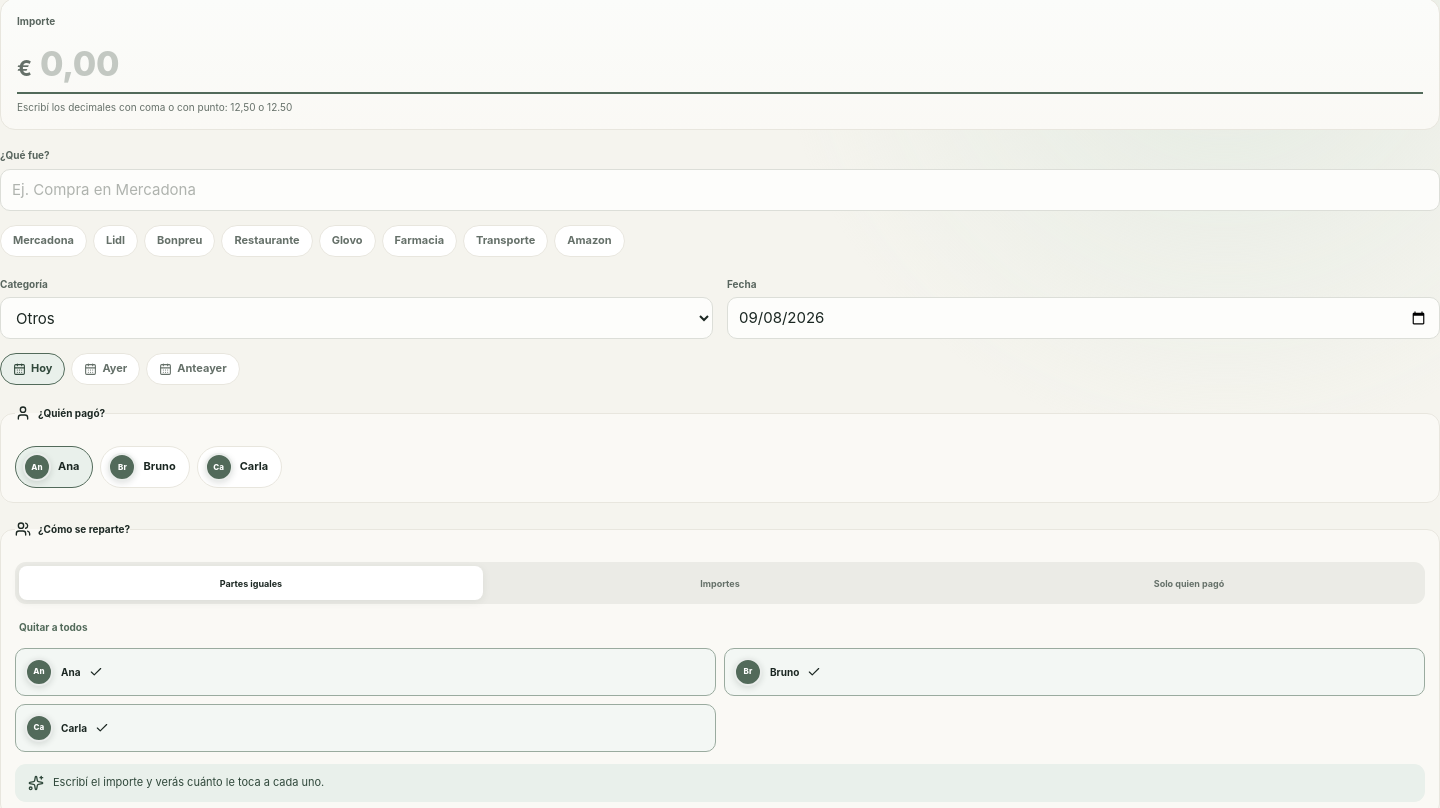
it: ExpenseForm › rechaza un importe vacío con un mensaje que explica los decimales
The image size is (1440, 808).
Type "Algo" into the field labelled "¿Qué fue?". click: coordinates (720, 190)
box: [0,169,1439,211]
(page scrolled)
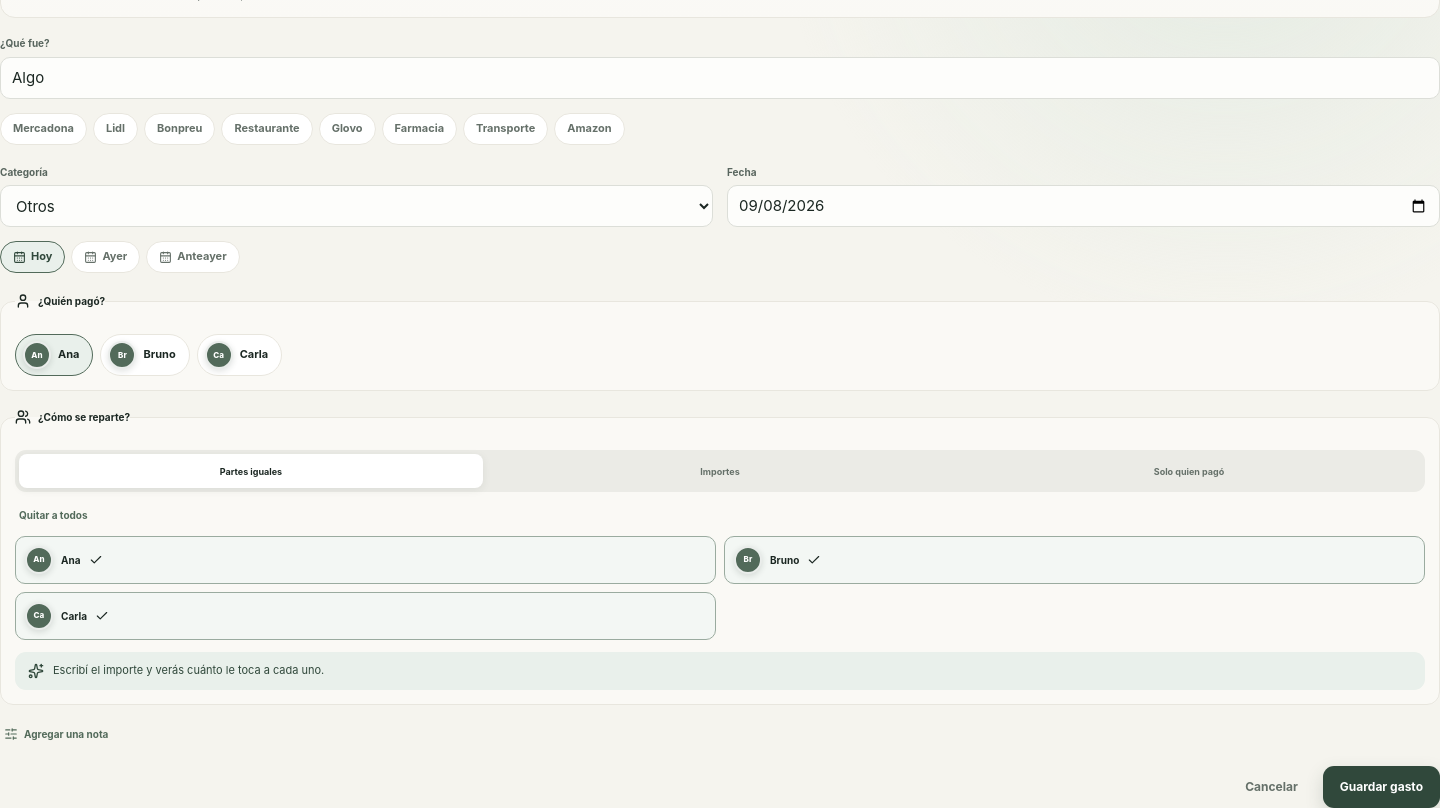
Click the button "Guardar gasto". click: coordinates (1381, 787)
box: [1323,766,1439,807]
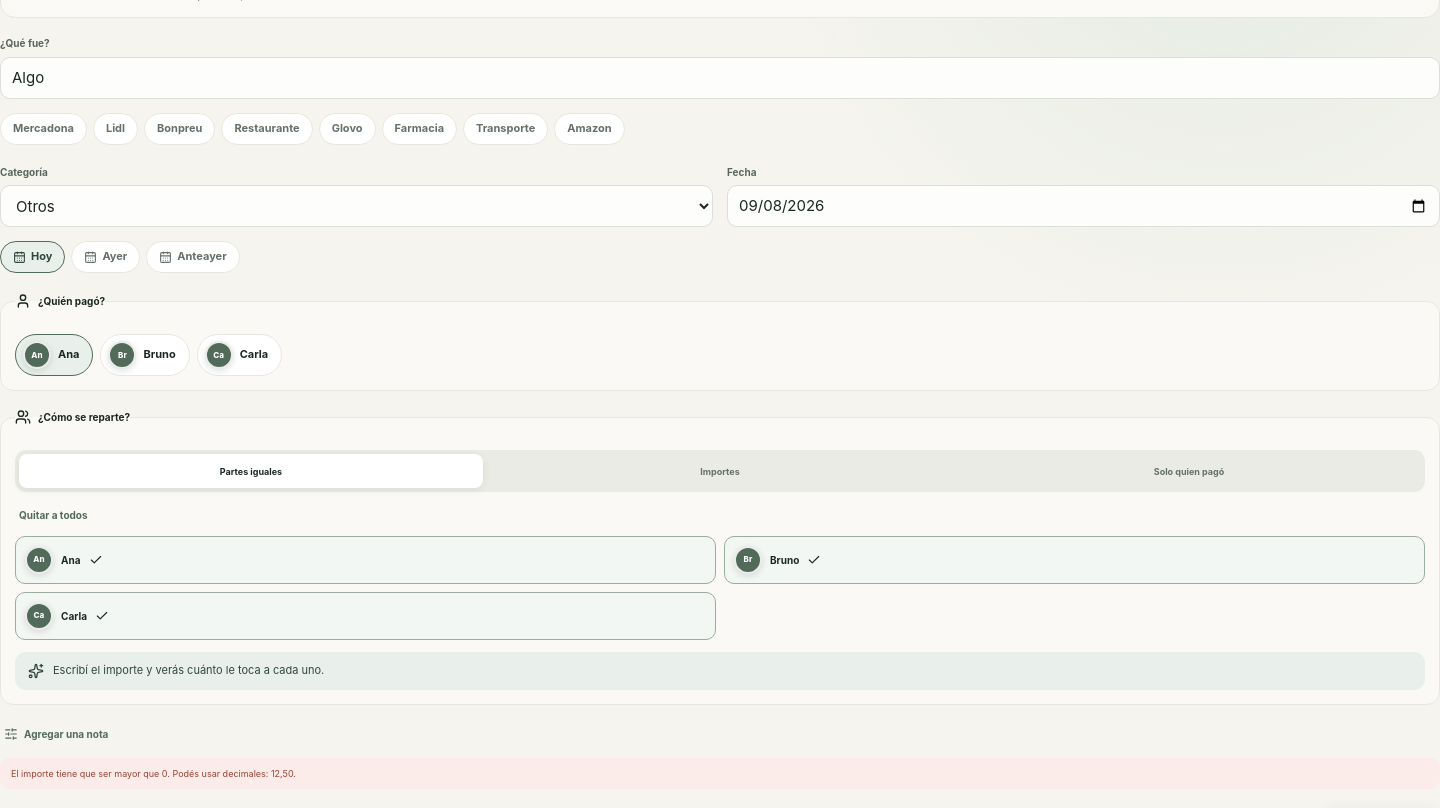
Result: the message shows "Podés usar decimales: 12,50" at [11,768,296,779]
